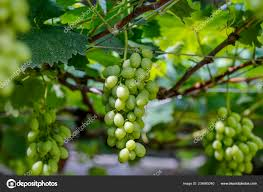grapes: (97, 52, 153, 159), (22, 112, 77, 172), (211, 105, 258, 174)
